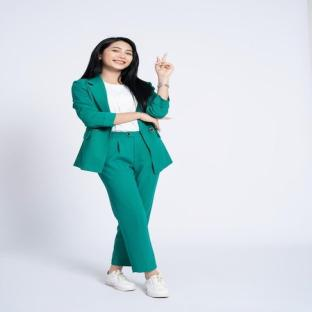Human: (72, 37, 173, 297)
